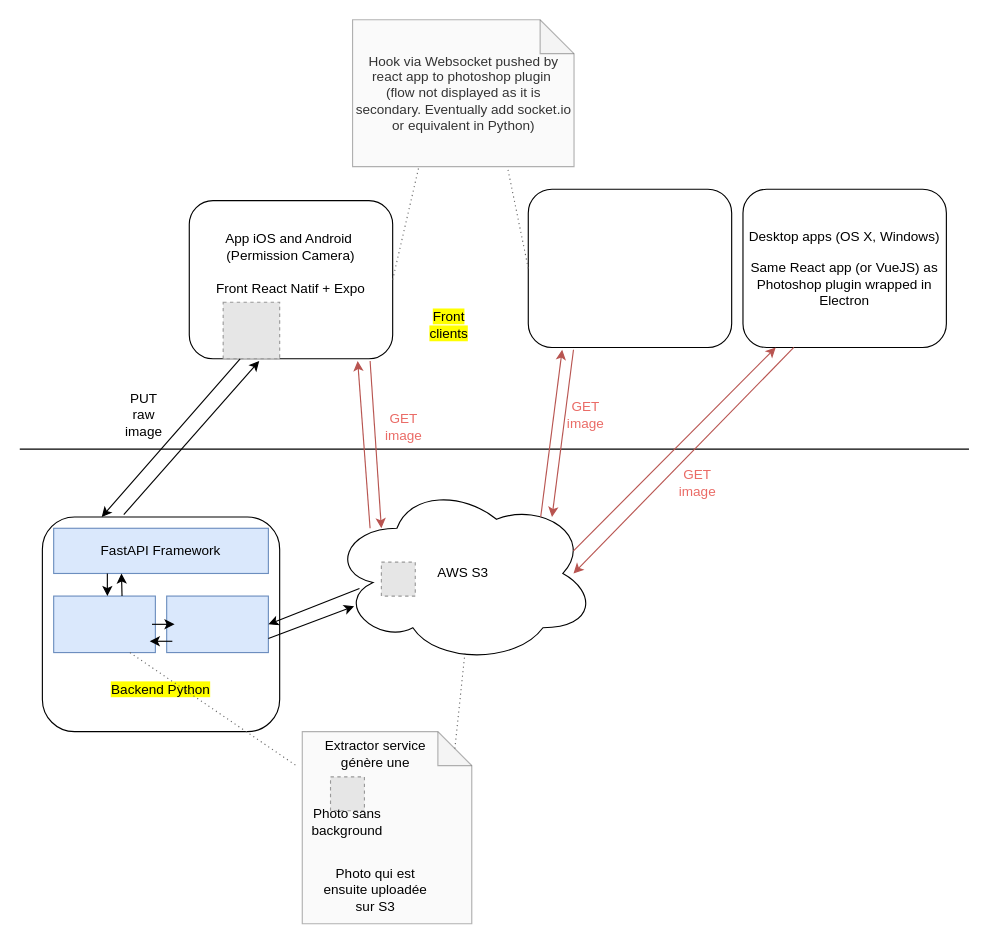
This 990x944 diagram has some shape labels left out. Grey dashed boxes stand in for pictures. Each missing label, with the centre of its shape:
"Extractor Service Torch U2Net" goes at pixel 104 624.
"Photoshop plugin to auto download background exported photo React app (or VueJS)" goes at pixel 629 267.
"S3 Service" goes at pixel 217 624.
